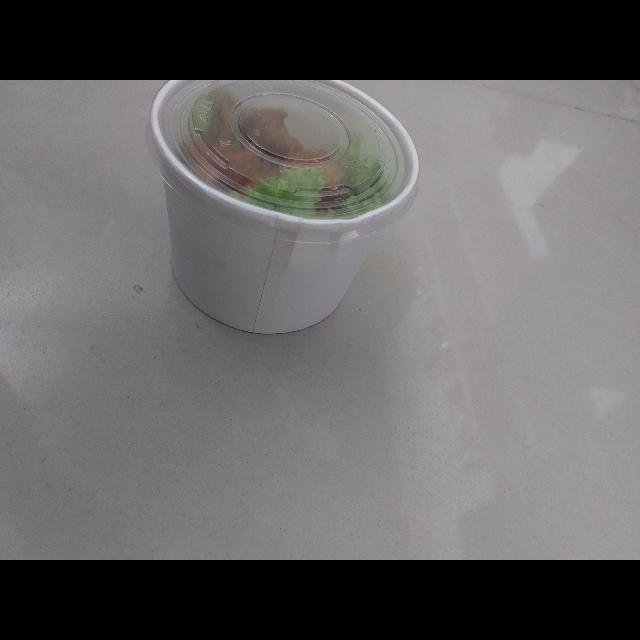rice-bowl: (111, 81, 433, 362)
